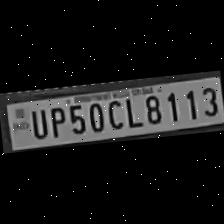0: (84, 99, 106, 133)
1: (162, 88, 182, 123), (180, 87, 200, 121)
3: (197, 84, 220, 118)
5: (65, 100, 88, 136)
8: (141, 90, 165, 125)
C: (104, 96, 124, 132)
L: (120, 94, 142, 128)
P: (45, 103, 66, 139)
U: (26, 106, 48, 140)
